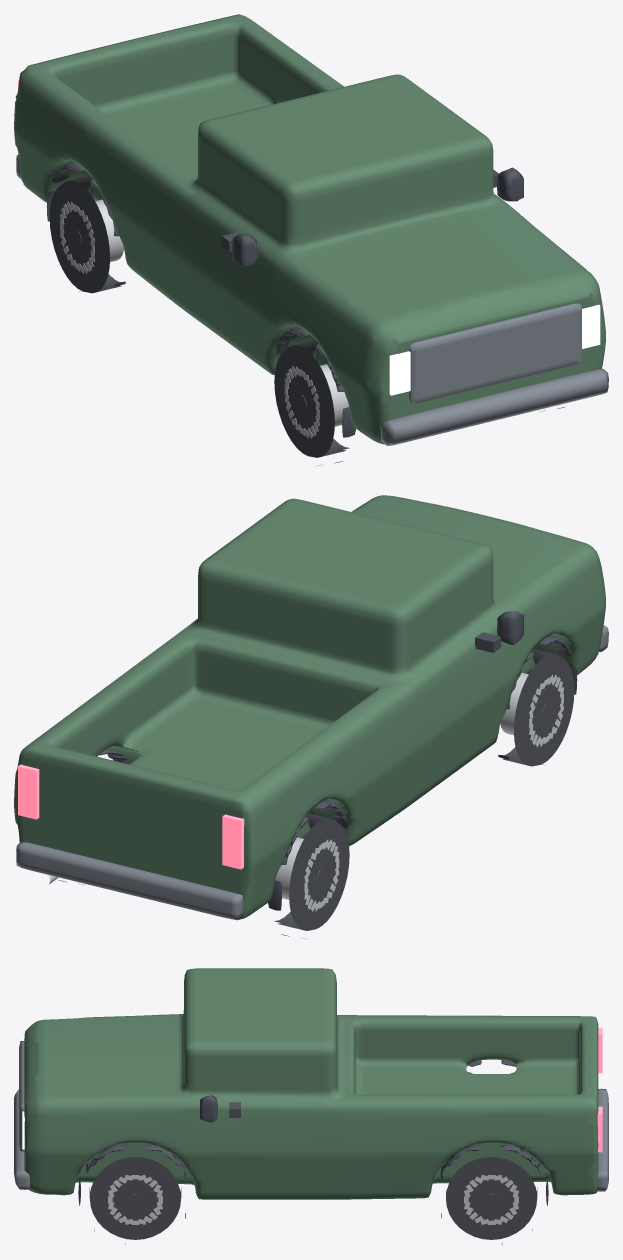
File: kodiak.glb
3 views of the same model, one above another, from view 1: azimuth 30°, elevation 25°; view 2: azimuth 150°, elevation 25°; view 3: azimuth 270°, elevation 25° (orthographic). The views are drawn at different scales.
Parts seen in each view (by area): view 1: Bodywork, ChromeTrim, TireRubber, CarbonAero, ForgedRim, HeadlightLED; view 2: Bodywork, TireRubber, ChromeTrim, ForgedRim, CarbonAero, TaillightLED; view 3: Bodywork, TireRubber, ChromeTrim, ForgedRim, CarbonAero, TaillightLED.
Part boxes in pixels (<box>): Bodywork: <box>14,14,605,444</box>; ChromeTrim: <box>16,155,608,445</box>; TireRubber: <box>49,176,349,457</box>; CarbonAero: <box>46,162,564,466</box>; ForgedRim: <box>60,199,348,438</box>; HeadlightLED: <box>389,304,600,395</box>; Bodywork: <box>14,495,605,920</box>; TireRubber: <box>274,649,574,930</box>; ChromeTrim: <box>16,625,608,919</box>; ForgedRim: <box>275,673,563,911</box>; CarbonAero: <box>58,611,577,939</box>; TaillightLED: <box>18,764,244,869</box>; Bodywork: <box>24,968,598,1199</box>; TireRubber: <box>89,1157,537,1239</box>; ChromeTrim: <box>14,1041,608,1190</box>; ForgedRim: <box>108,1175,518,1224</box>; CarbonAero: <box>78,1060,548,1245</box>; TaillightLED: <box>597,1027,602,1152</box>.
Size of the model in its own units: 2.44 by 2.03 by 5.6.
